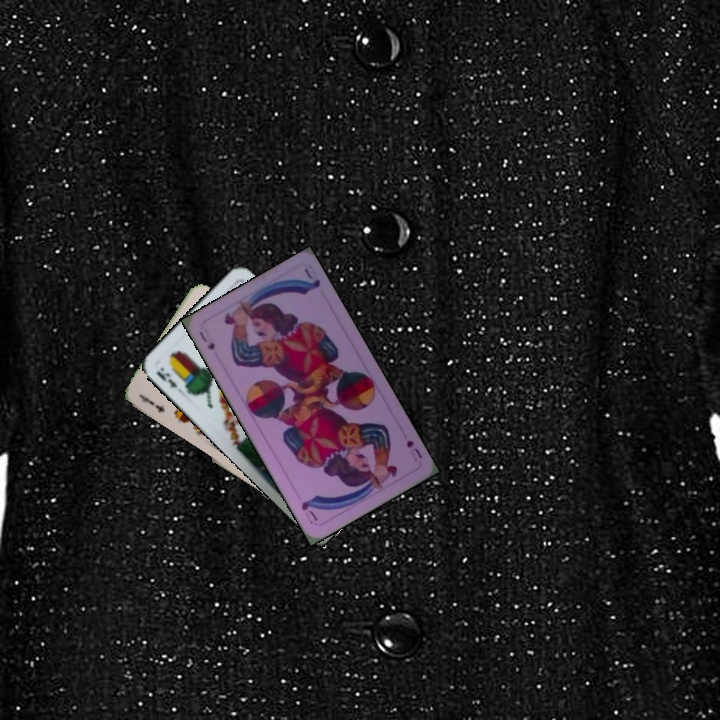E7: (136, 392, 167, 415)
EK: (152, 367, 180, 391)
SU: (402, 436, 425, 461), (195, 327, 217, 353)
